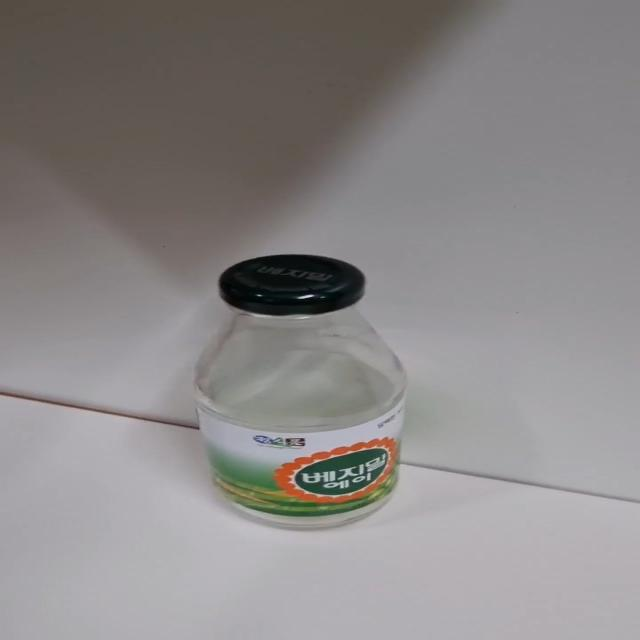Glass: (191, 254, 409, 534)
